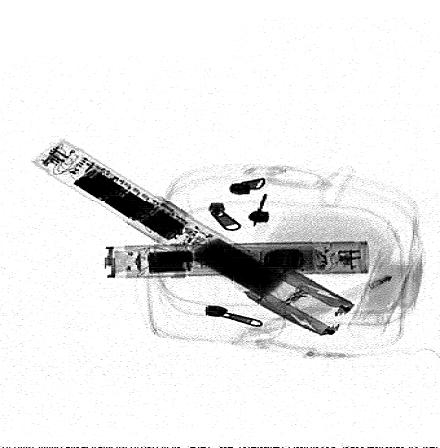Baton: (32, 137, 358, 336), (100, 239, 371, 280)
